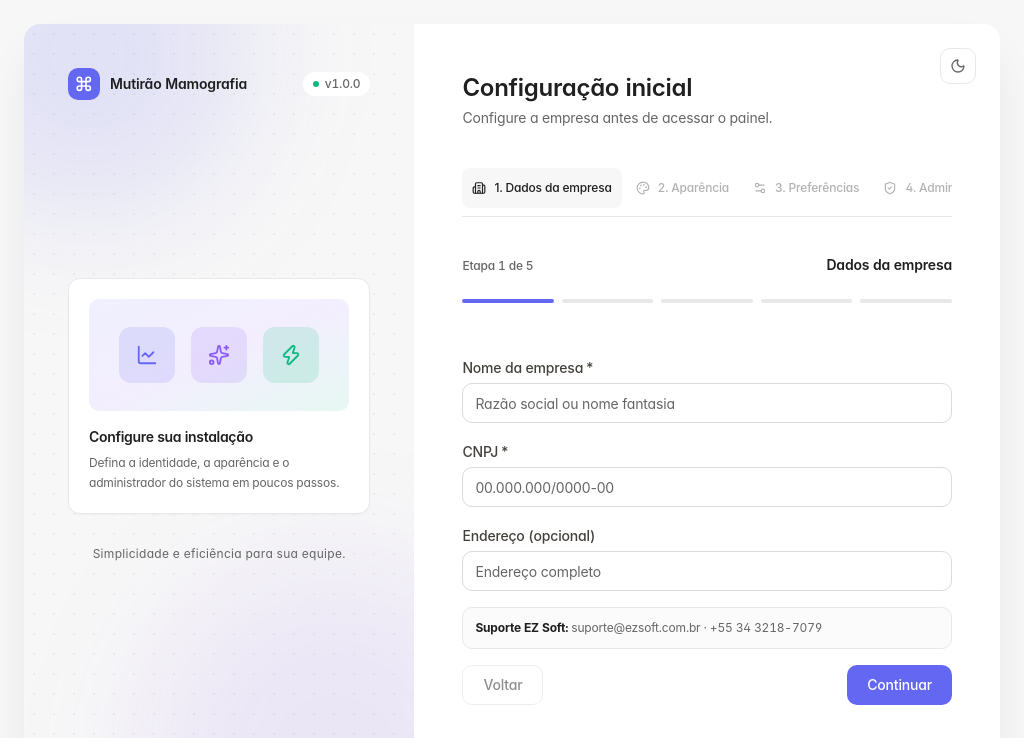
Test: Setup — conclusão da configuração inicial › bloqueia etapas futuras e permite voltar às etapas concluídas
Expected: the tab "2. Aparência" is disabled, [626,168,739,208]
Expected: the tab "3. Preferências" is disabled, [743,168,869,208]
Step 1. Type "Minha Empresa LTDA" into the field with placeholder "Razão social ou nome fantasia" → [707, 403], box [462,383,952,423]
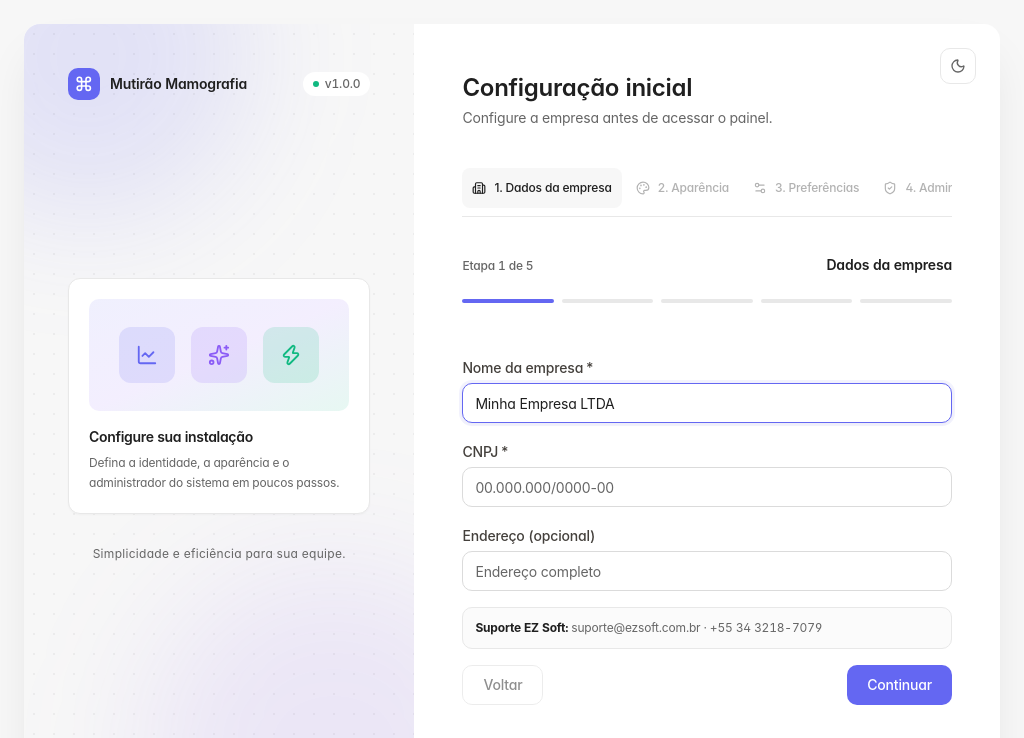
Step 2. Type "11222333000181" into the field with placeholder "00.000.000/0000-00" → [707, 487], box [462,467,952,507]
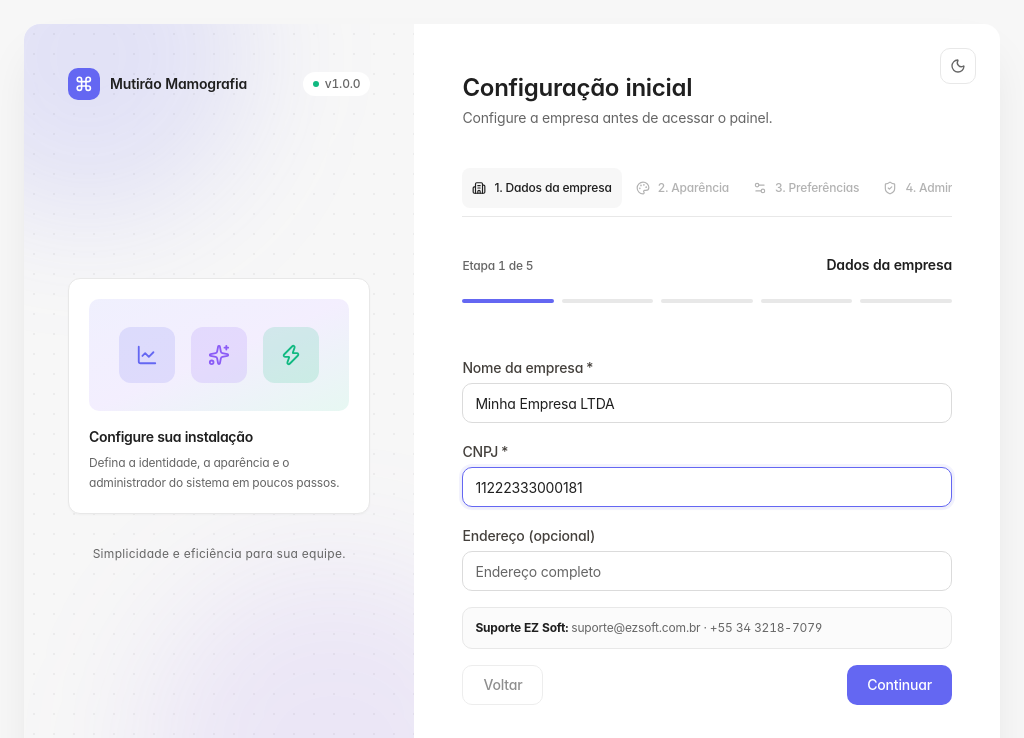
Step 3. Click the button "Continuar" → [900, 685], box [847,665,952,705]
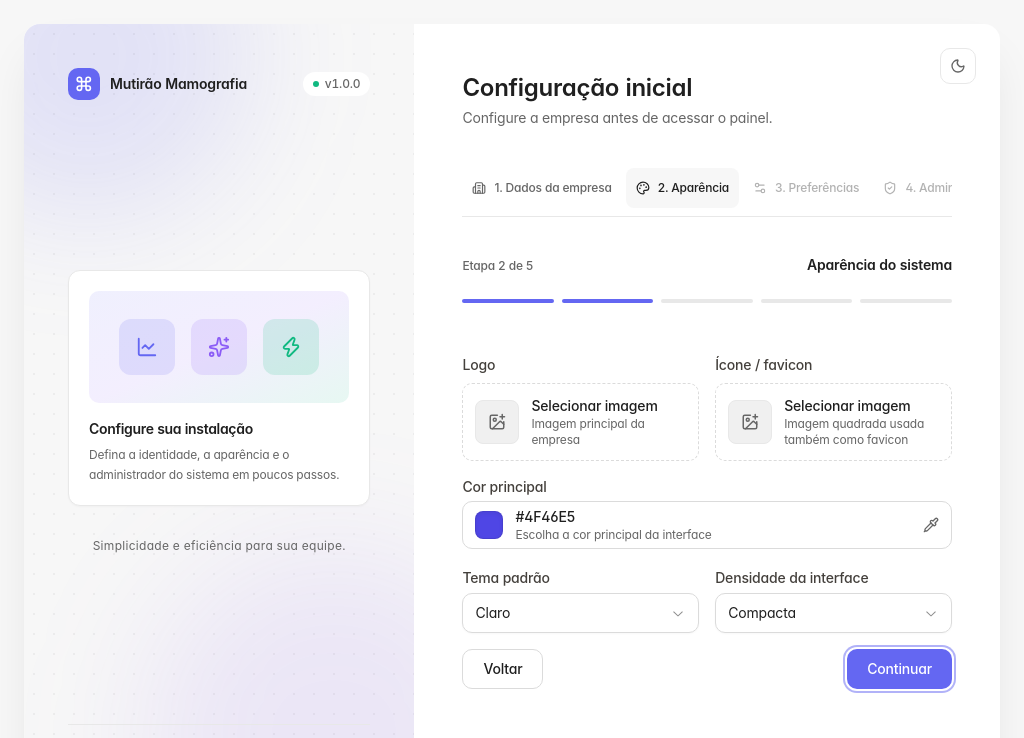
Expected: the tab "3. Preferências" is disabled, [743,168,869,208]
Now the tab "2. Aparência" is enabled, box [626,168,739,208]
Step 4. Click the tab "1. Dados da empresa" → [542, 188], box [462,168,622,208]
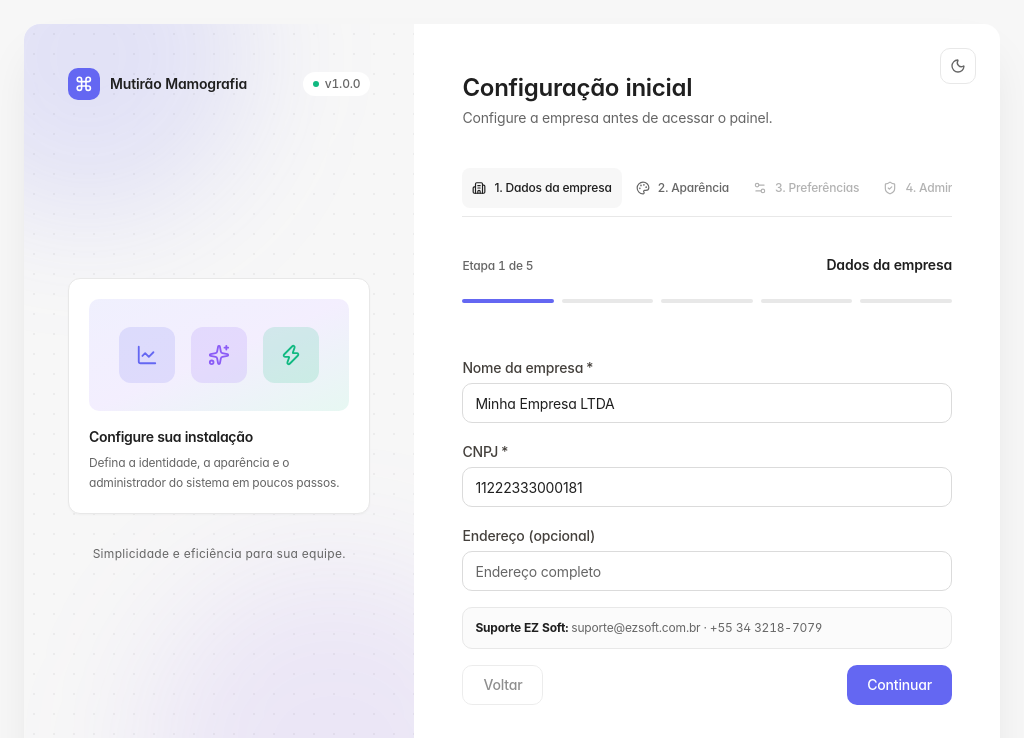
Step 5. Click the tab "2. Aparência" → [682, 188], box [626,168,739,208]
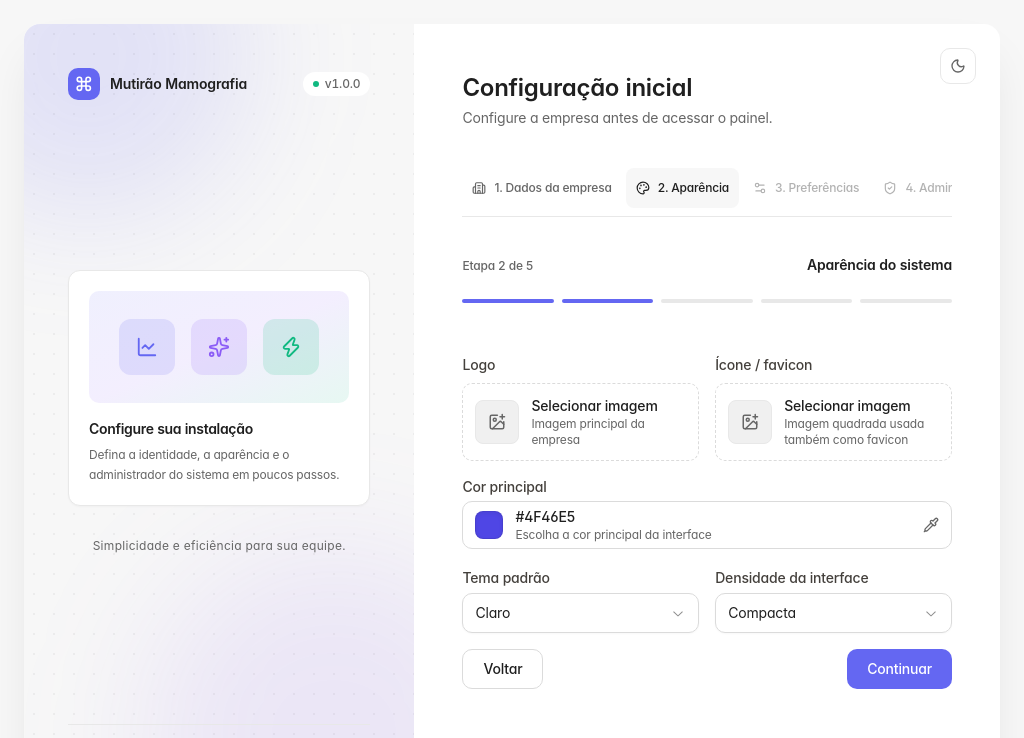
Step 6. Click the button "Continuar" → [900, 669], box [847,649,952,689]
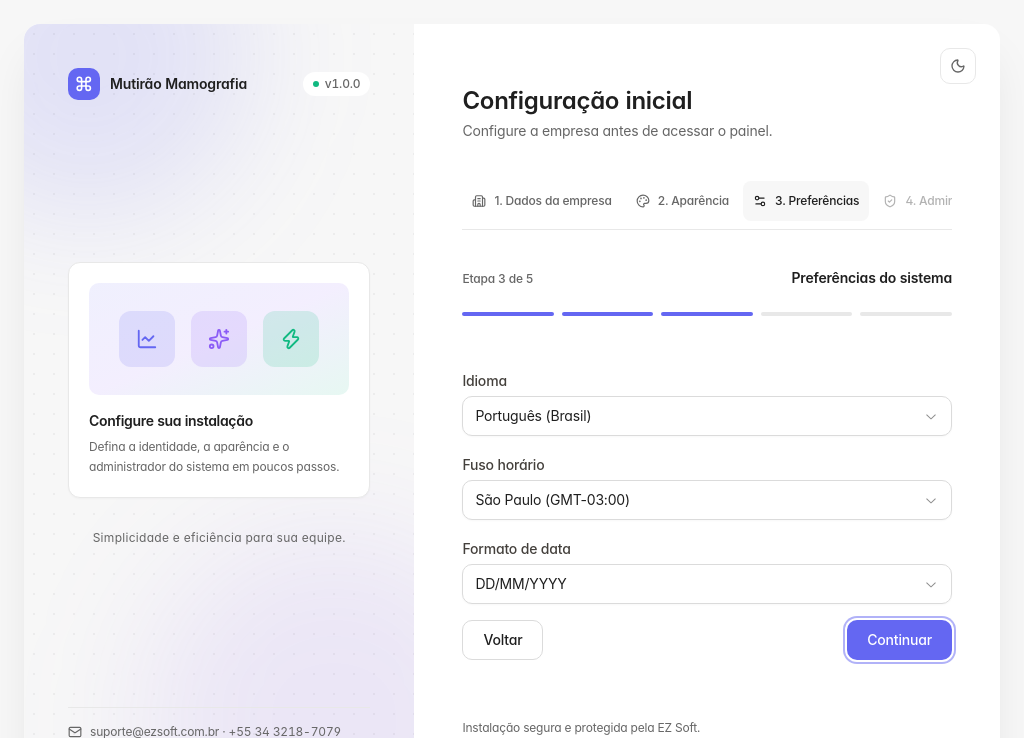
Now the tab "3. Preferências" is enabled, box [743,180,869,220]
